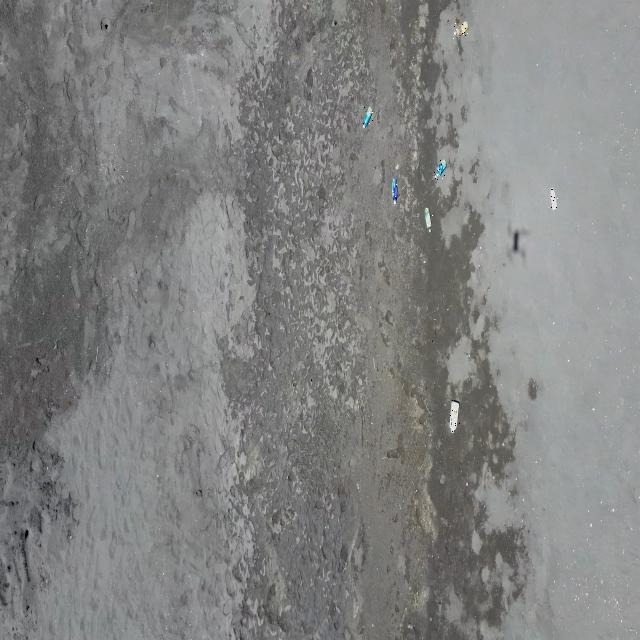plastic-bottle: (450, 400, 460, 433), (453, 20, 468, 40), (424, 206, 434, 233), (362, 107, 373, 129), (434, 160, 446, 180), (550, 185, 558, 210), (392, 180, 398, 206)
